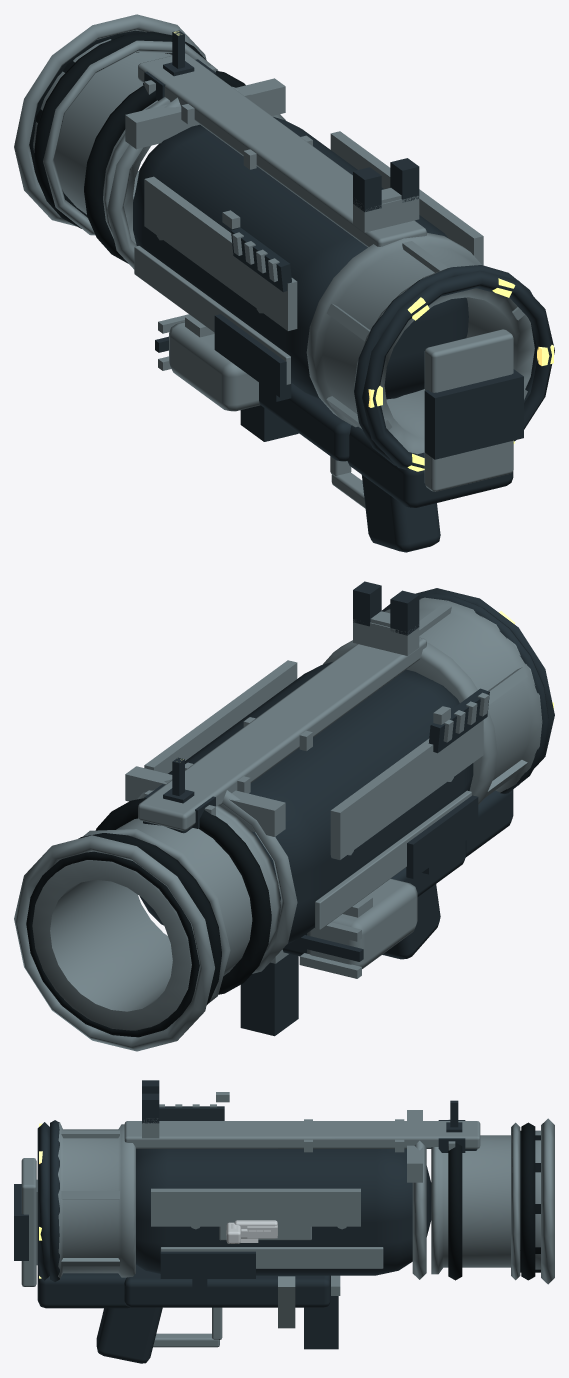
The model's file is weapon-1.glb.
The picture shows the model from 3 angles, top to bottom: view 1: azimuth 30°, elevation 25°; view 2: azimuth 150°, elevation 25°; view 3: azimuth 270°, elevation 25°; orthographic projection. The views are drawn at different scales.
Parts seen in each view (by area): view 1: body-dark, body-light, barrel-assembly-light, barrel-assembly-cavity, feed-light, body-glow; view 2: body-light, body-dark, barrel-assembly-light, barrel-assembly-cavity, feed-light, feed-dark; view 3: body-dark, body-light, barrel-assembly-light, barrel-assembly-cavity, bolt-trim.
Boxes of the visible parts, bbox=[...] form: body-dark: bbox=[133, 30, 554, 552]; body-light: bbox=[107, 53, 534, 508]; barrel-assembly-light: bbox=[14, 14, 218, 244]; barrel-assembly-cavity: bbox=[29, 30, 245, 263]; feed-light: bbox=[158, 314, 260, 411]; body-glow: bbox=[173, 31, 553, 471]; body-light: bbox=[125, 597, 542, 973]; body-dark: bbox=[139, 581, 554, 1036]; barrel-assembly-light: bbox=[14, 804, 280, 1051]; barrel-assembly-cavity: bbox=[26, 798, 271, 1037]; feed-light: bbox=[299, 878, 417, 978]; feed-dark: bbox=[296, 935, 363, 961]; body-dark: bbox=[14, 1080, 477, 1363]; body-light: bbox=[21, 1092, 480, 1347]; barrel-assembly-light: bbox=[431, 1118, 554, 1284]; barrel-assembly-cavity: bbox=[448, 1122, 540, 1280]; bolt-trim: bbox=[226, 1220, 277, 1243].
Bounding box in the file's own units: 0.3455 × 0.5126 × 0.935.
